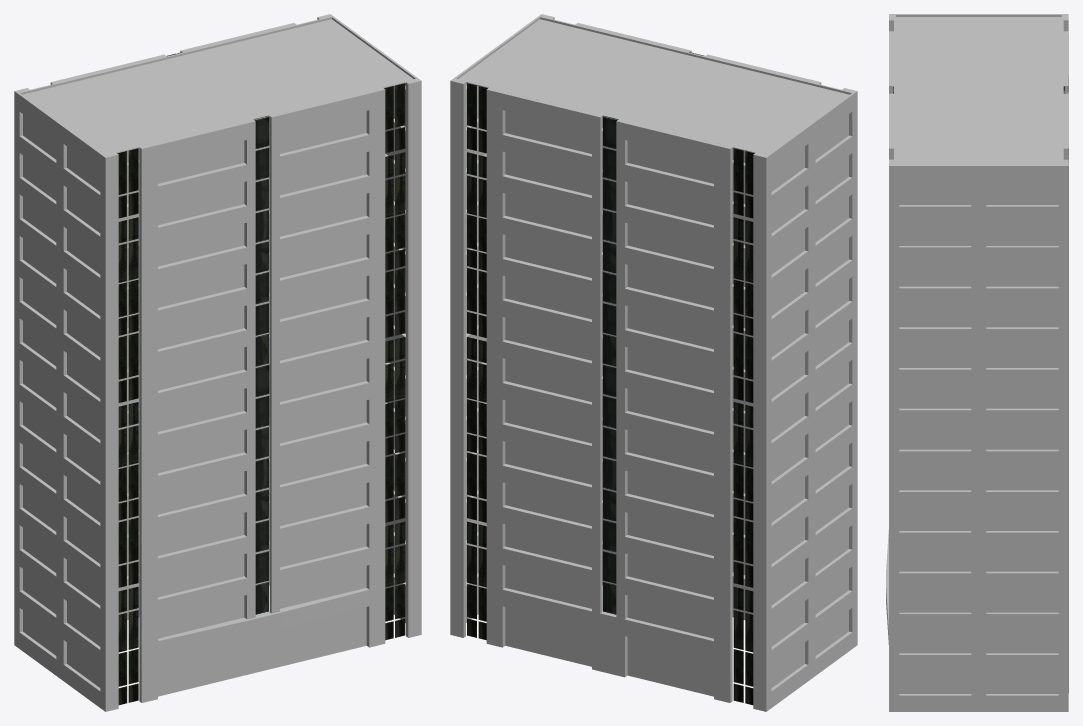
3 renders of one model, left to right at view 1: azimuth 30°, elevation 25°; view 2: azimuth 150°, elevation 25°; view 3: azimuth 270°, elevation 25°, orthographic.
Parts seen in each view (by area): view 1: BB-014; view 2: BB-014; view 3: BB-014.
Part boxes in pixels (left/top/right/bottom): BB-014: left=14, top=14, right=421, bottom=711; BB-014: left=450, top=14, right=857, bottom=711; BB-014: left=886, top=14, right=1068, bottom=711.
Size of what is drawn, in the model's own units: 24 by 40.21 by 12.2.
